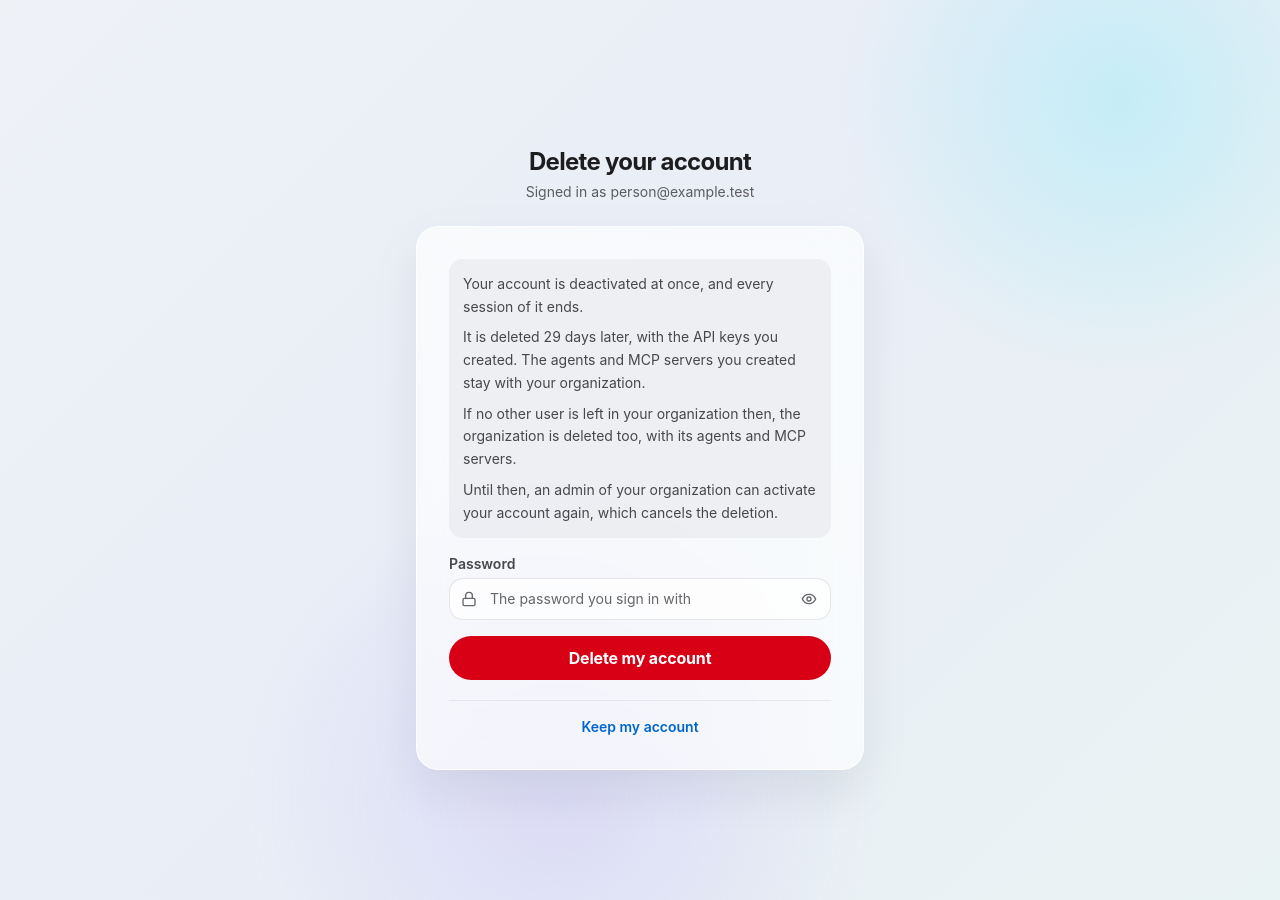
delete account page › asks for the password before it sends anything
The width and height of the screenshot is (1280, 900).
Click the button "Delete my account".
click(640, 658)  # box [449,636,831,680]
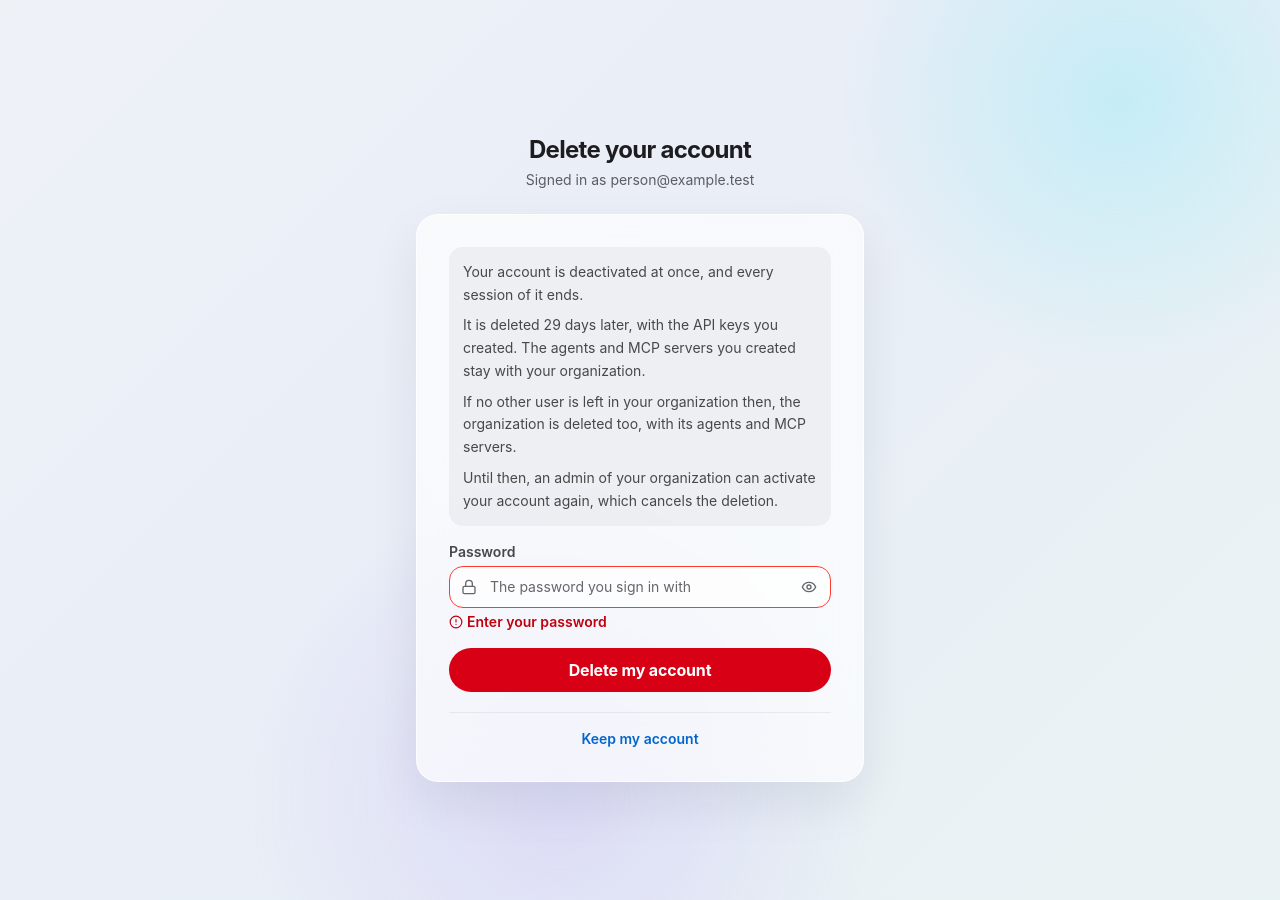
Expected: the text "Enter your password" is shown, [449,613,607,630]
